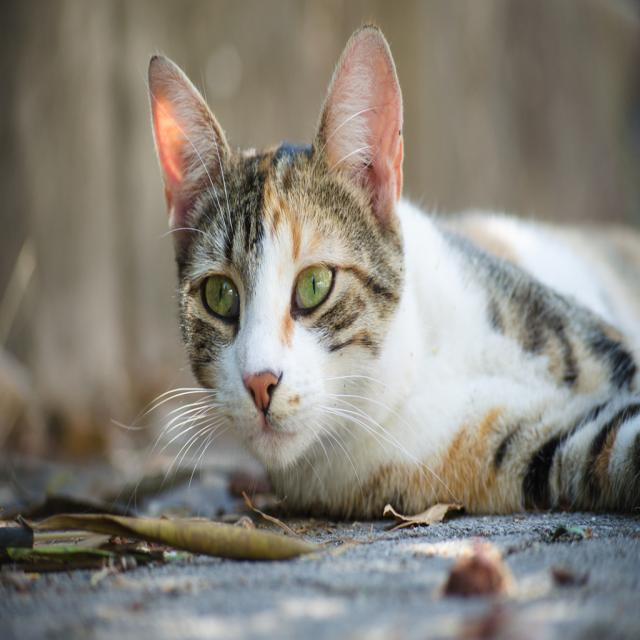Cat: (110, 15, 639, 521)
